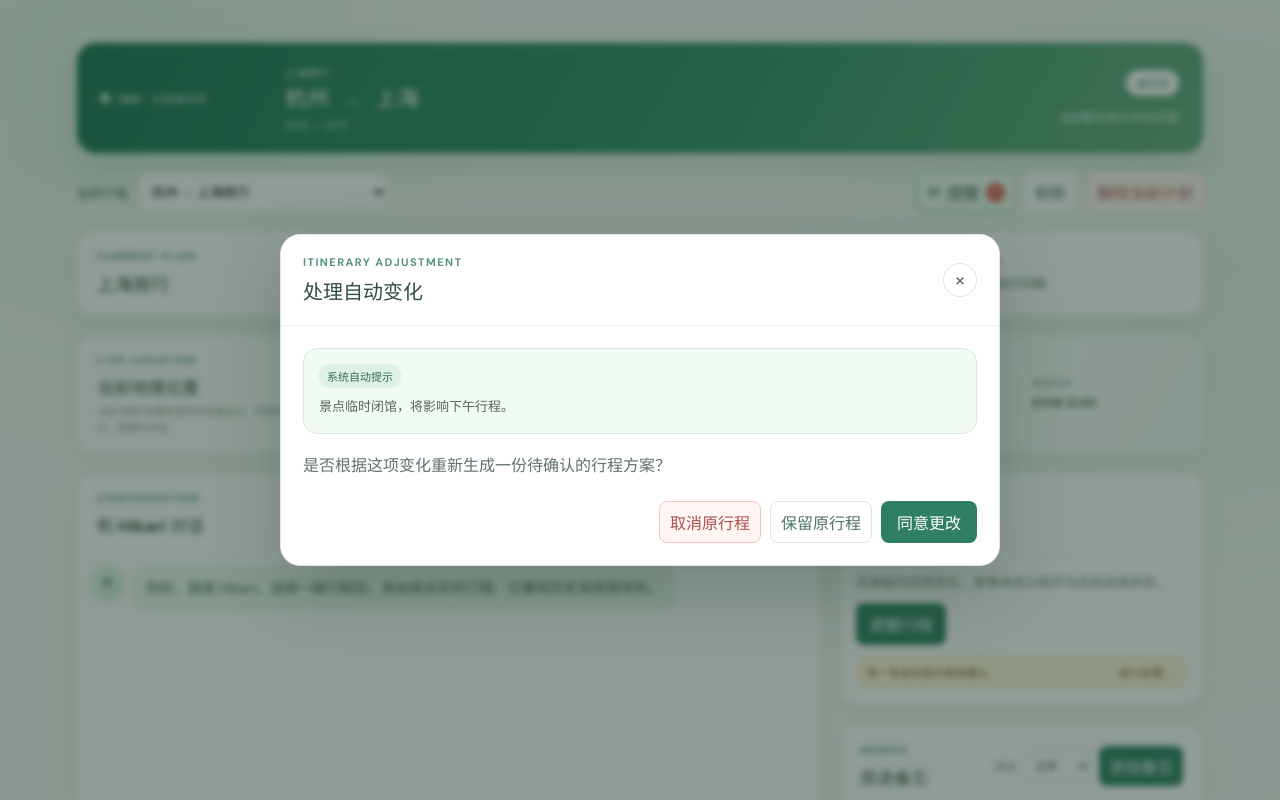
Scenario: Companion adjustment dialog › closes an automatic prompt without resolving it and can reopen from the banner
Click the button with class "dialog-close".
click(960, 280)  # box [943,263,977,297]
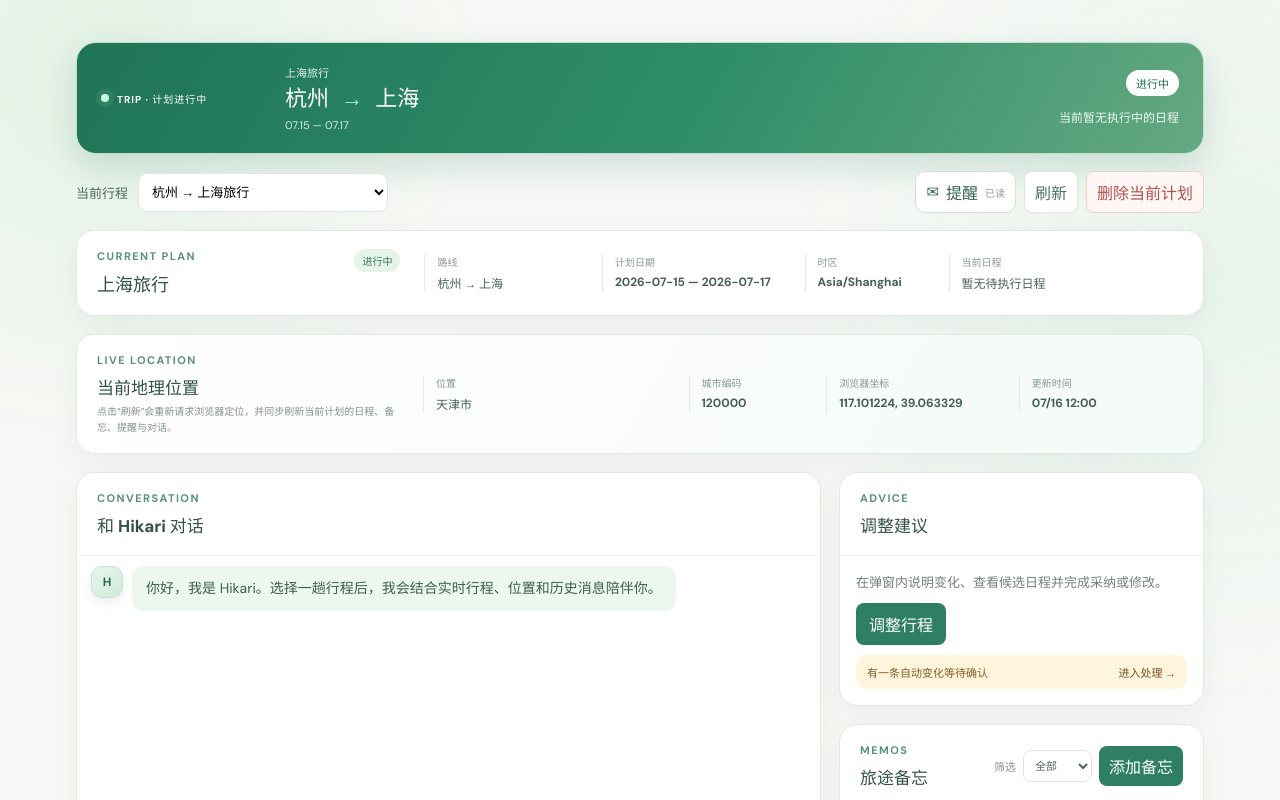
Now the dialog with class "adjustment-dialog" is gone
Click the button "有一条自动变化等待确认 进入处理 →".
click(928, 673)  # box [856,655,1187,689]
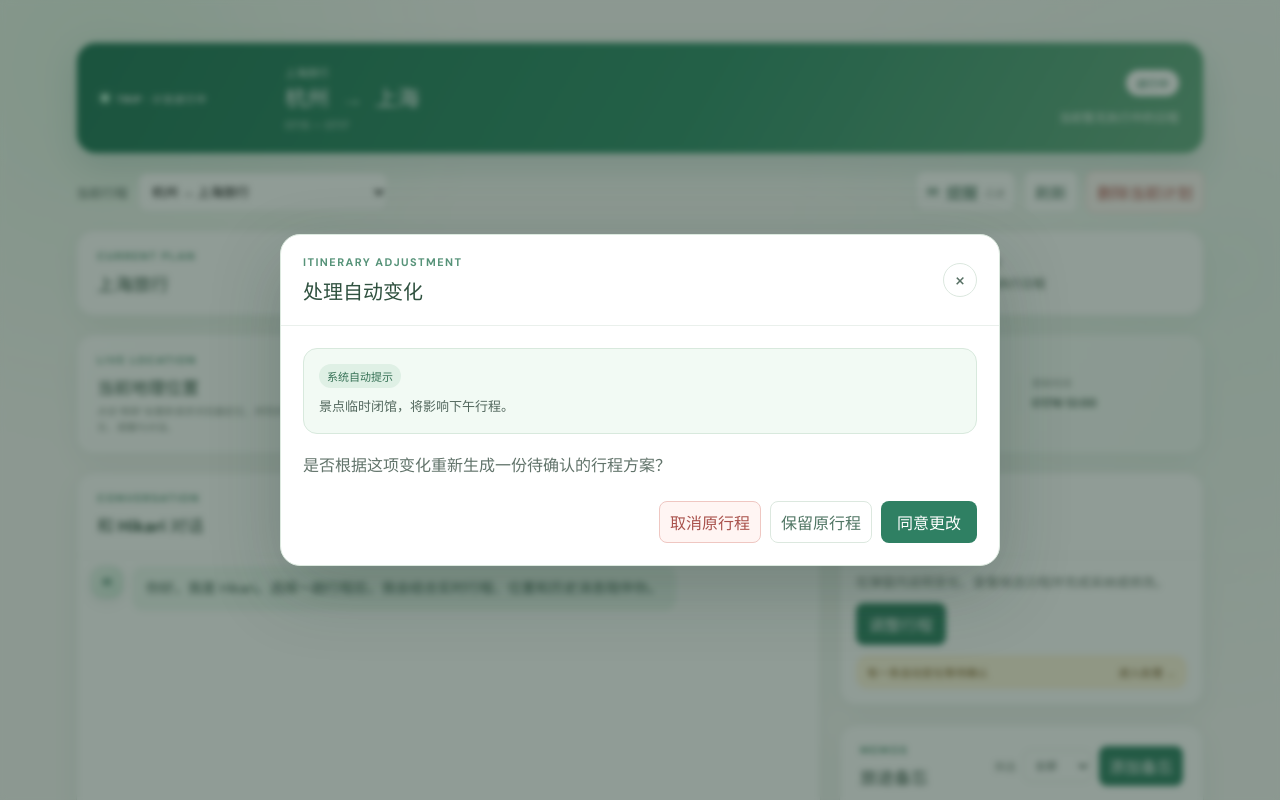
Now the text "是否根据这项变化重新生成" is shown, box [303,455,671,476]
